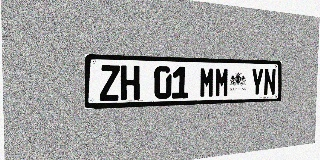0: (154, 66, 172, 99)
1: (172, 66, 188, 99)
H: (121, 65, 140, 100)
M: (199, 67, 215, 98), (215, 67, 229, 97)
N: (263, 68, 276, 96)
Y: (251, 68, 264, 96)
Z: (100, 65, 120, 101)
